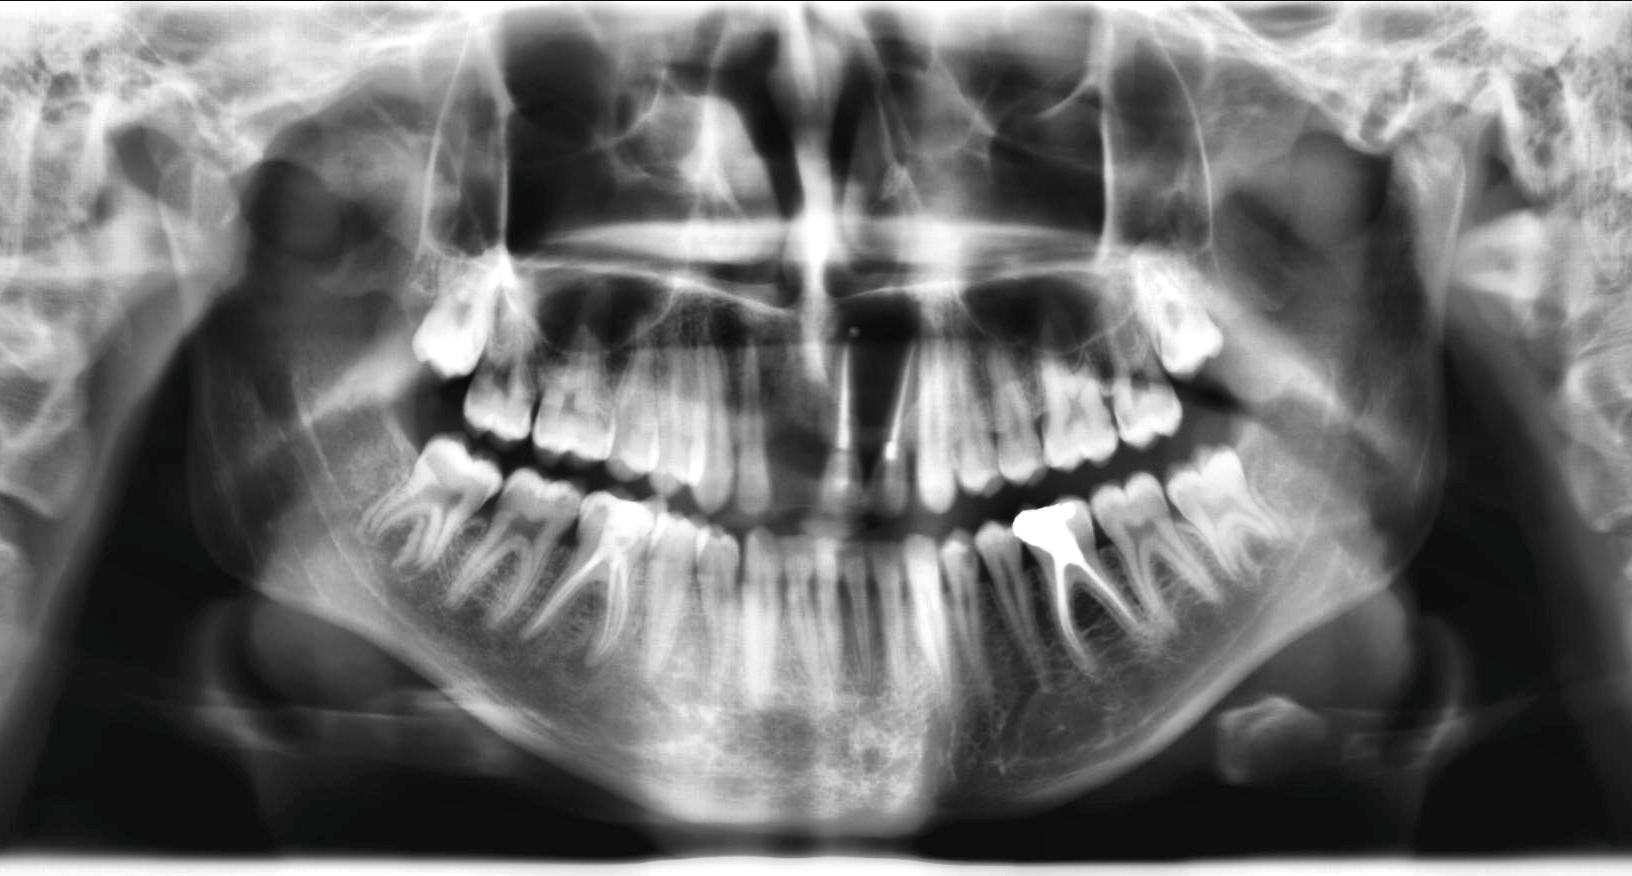radikuler: (821, 289, 938, 428), (565, 644, 604, 688)
